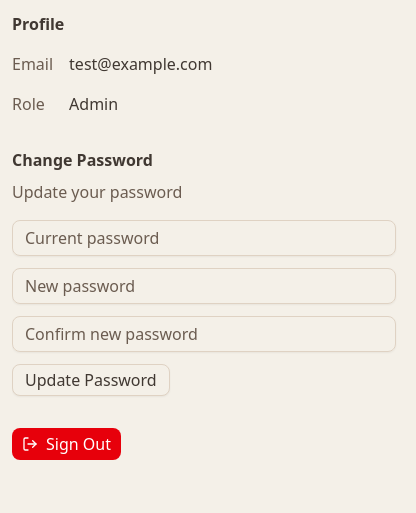
Scenario: AccountSettingsPage › shows success message on successful password change
Type "oldpass123" into the password field with placeholder "Current password" at (204, 238), box [12, 220, 396, 256]
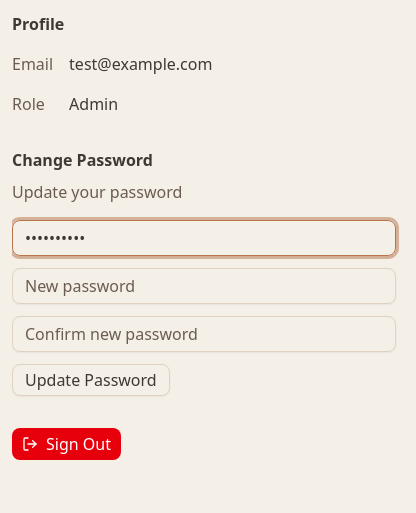
Type "newpass12345" into the password field with placeholder "New password" at (204, 286), box [12, 268, 396, 304]
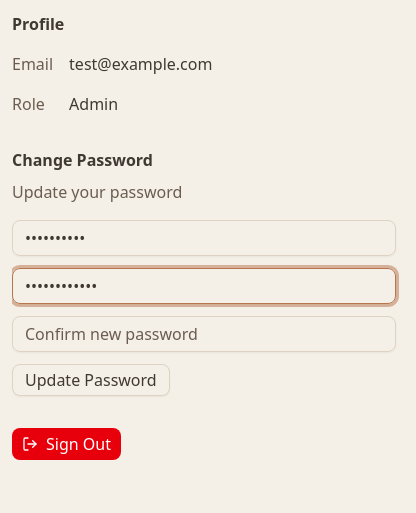
Type "newpass12345" into the password field with placeholder "Confirm new password" at (204, 334), box [12, 316, 396, 352]
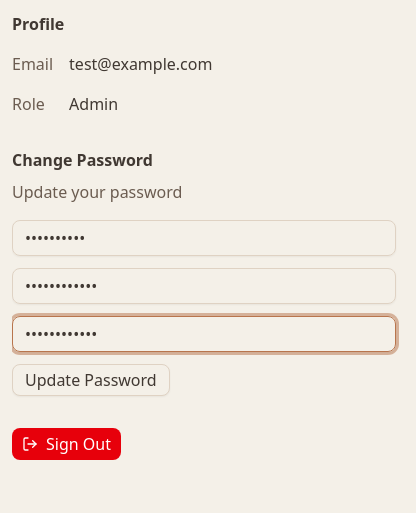
Click the button "Update Password" at (91, 380), box [12, 364, 170, 396]
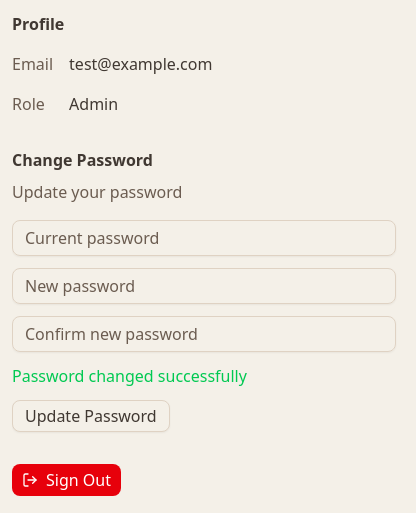
Check: the text "Password changed successfully" is shown, box [12, 365, 247, 387]
